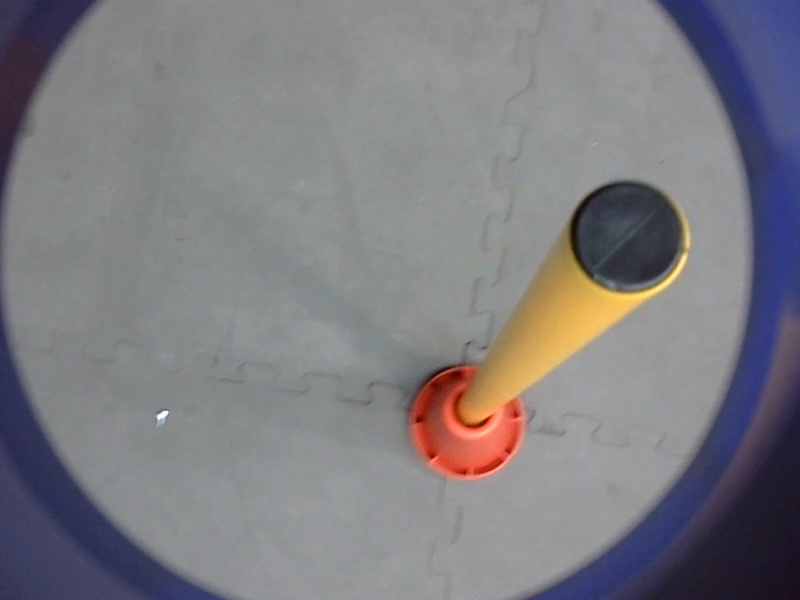tip: (563, 175, 698, 304)
